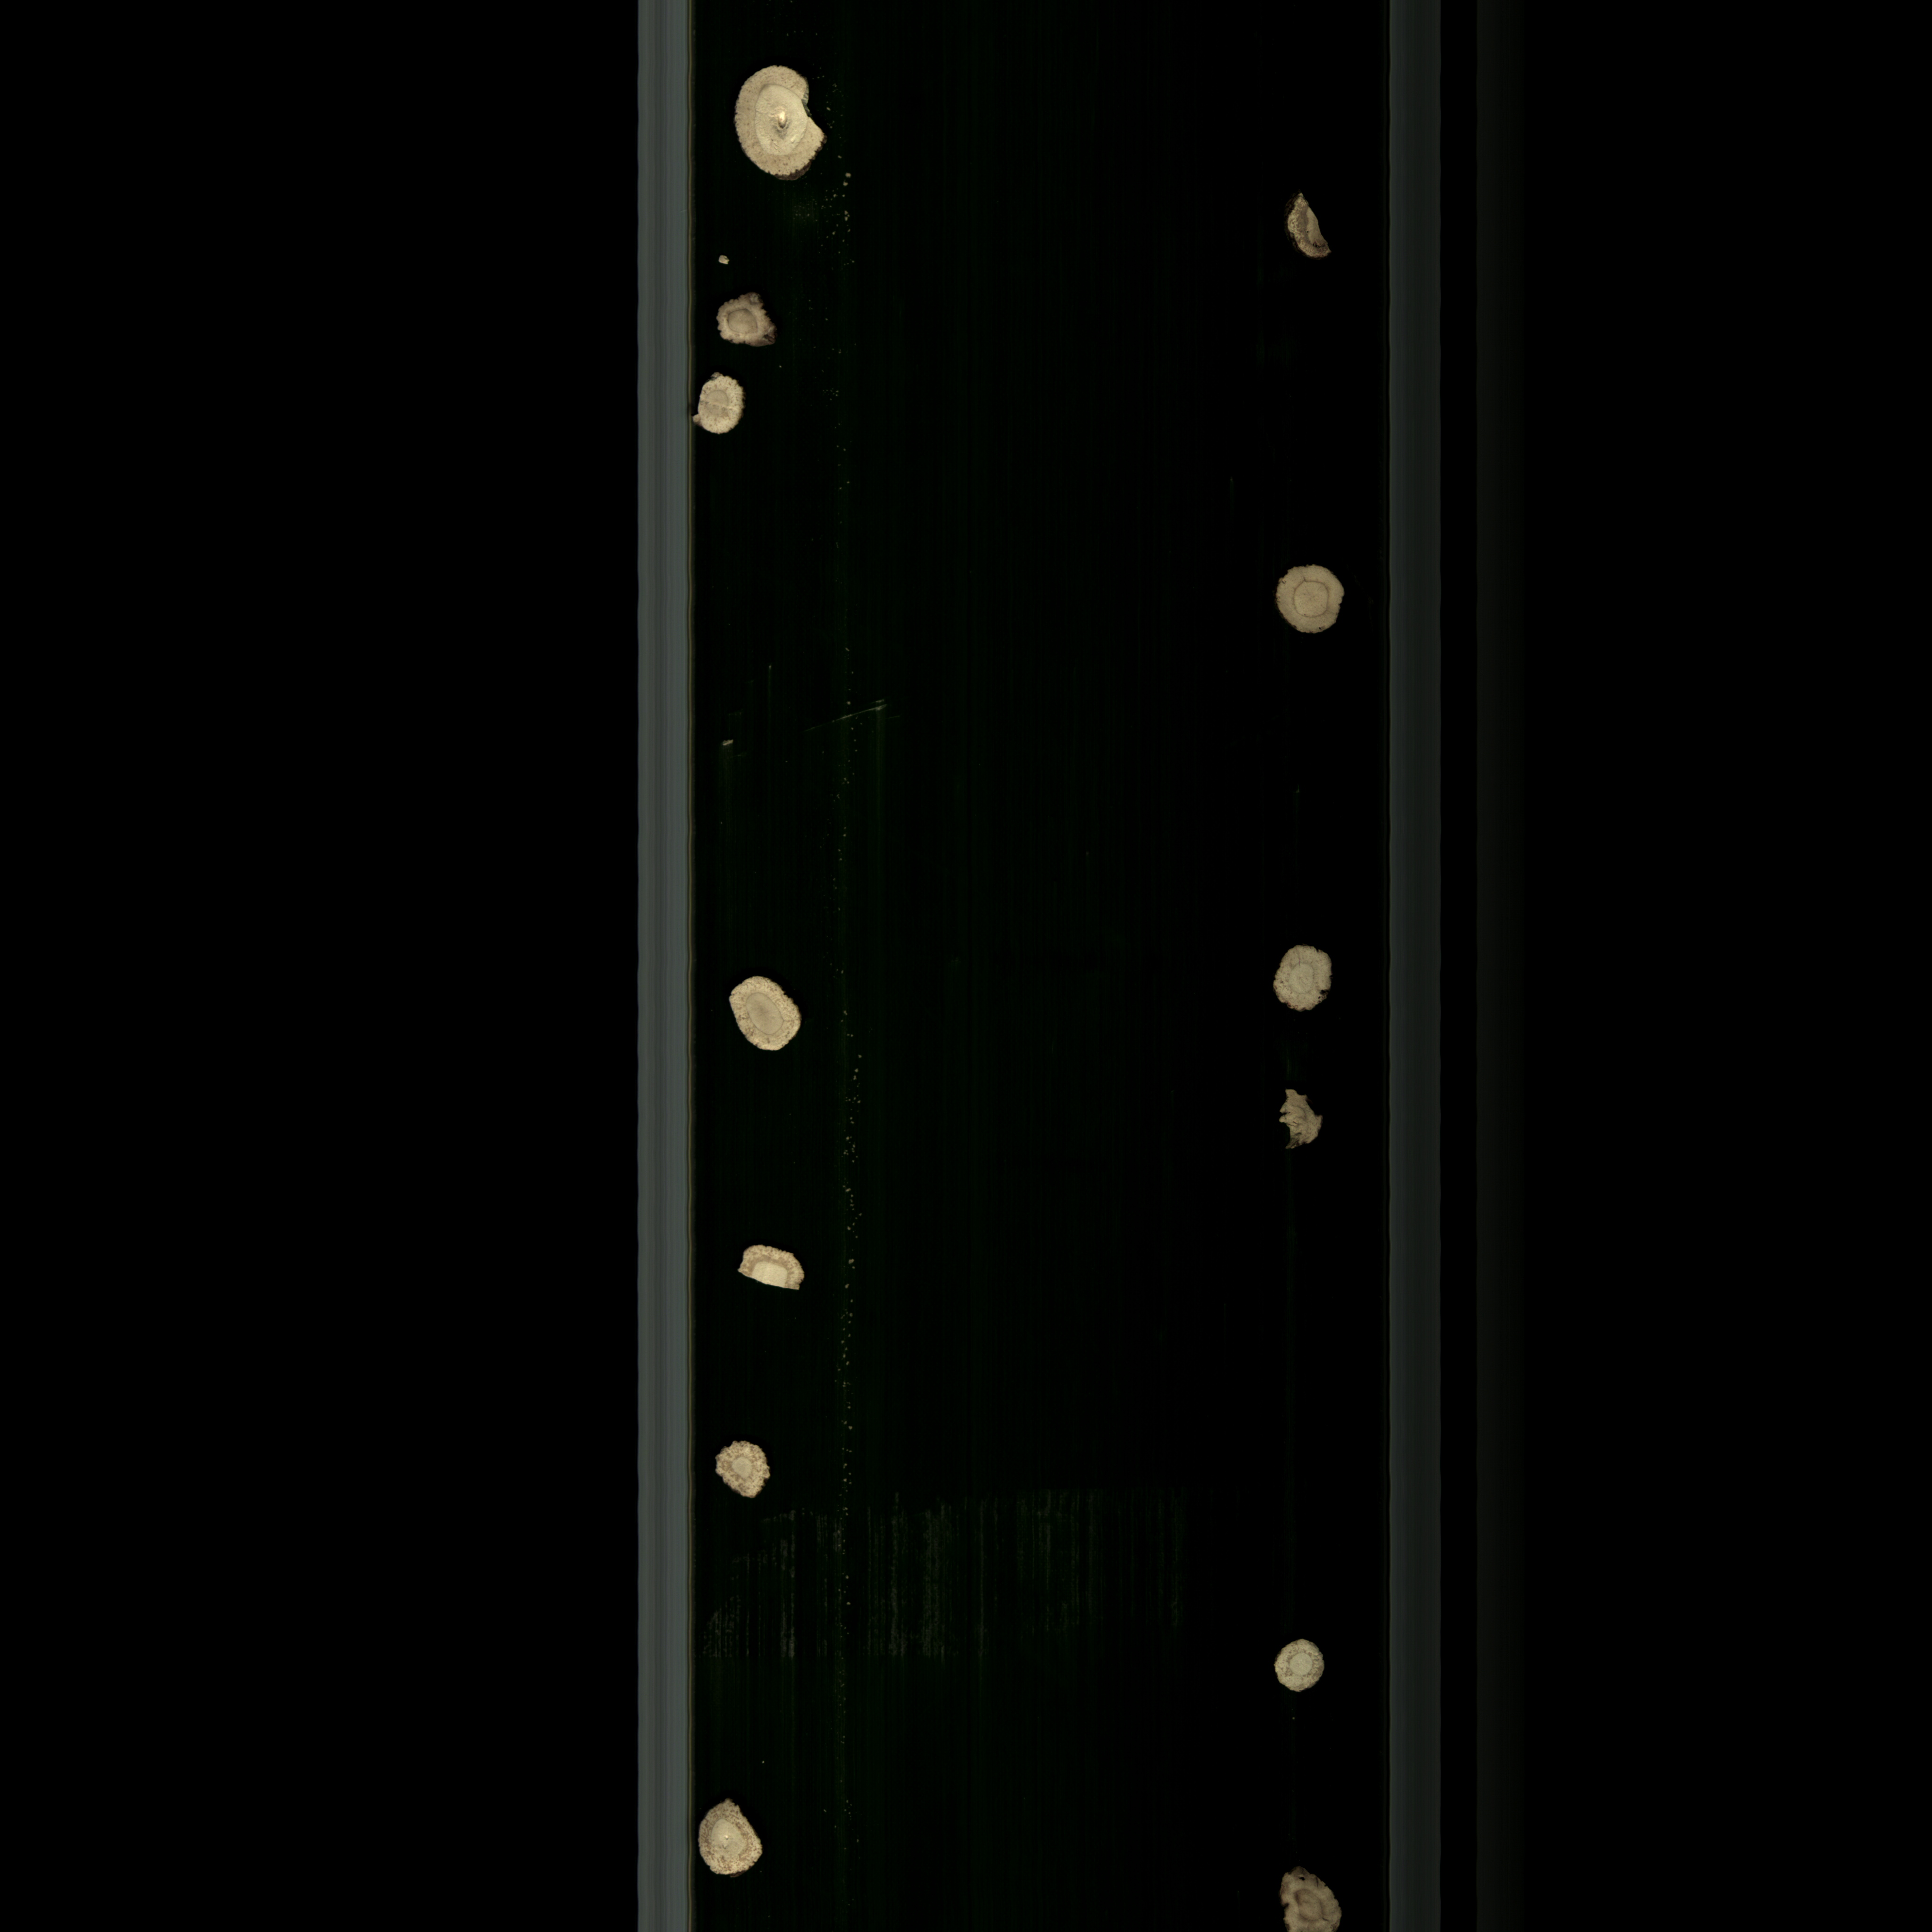debris: (722, 55, 837, 184), (724, 1238, 812, 1304), (695, 368, 754, 449)
distortion: (688, 1794, 768, 1886), (1270, 941, 1343, 1030), (1277, 1081, 1336, 1161)
dreg: (711, 248, 743, 272)
moldy: (1261, 1861, 1353, 1932), (704, 1435, 786, 1513), (711, 285, 798, 357), (1272, 182, 1339, 269)
